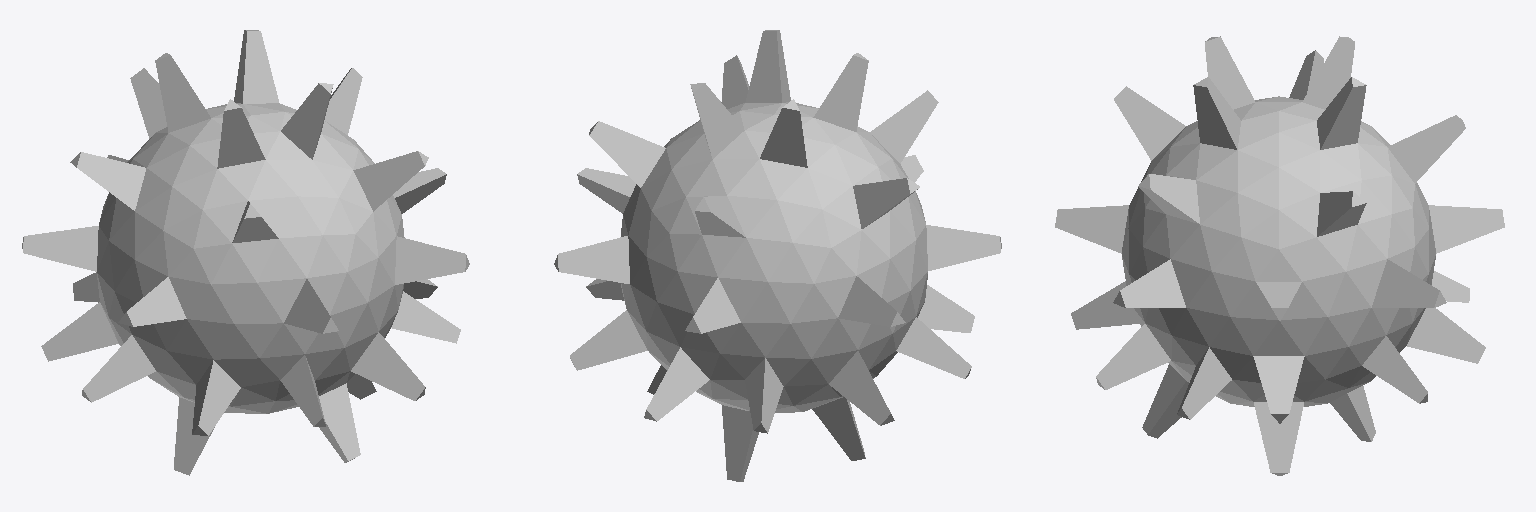
The model's file is mine.obj.
3 views of the same model, side by side, from view 1: azimuth 30°, elevation 25°; view 2: azimuth 150°, elevation 25°; view 3: azimuth 270°, elevation 25° (orthographic).
Parts seen in each view (by area): view 1: Icosphere_Icosphere.001; view 2: Icosphere_Icosphere.001; view 3: Icosphere_Icosphere.001.
Part boxes in pixels (x1,y1,x2,y2): Icosphere_Icosphere.001: (22,30,469,475); Icosphere_Icosphere.001: (554,30,1001,481); Icosphere_Icosphere.001: (1055,36,1504,475).
Bounding box in the file's own units: 2.77 × 2.7 × 2.86.